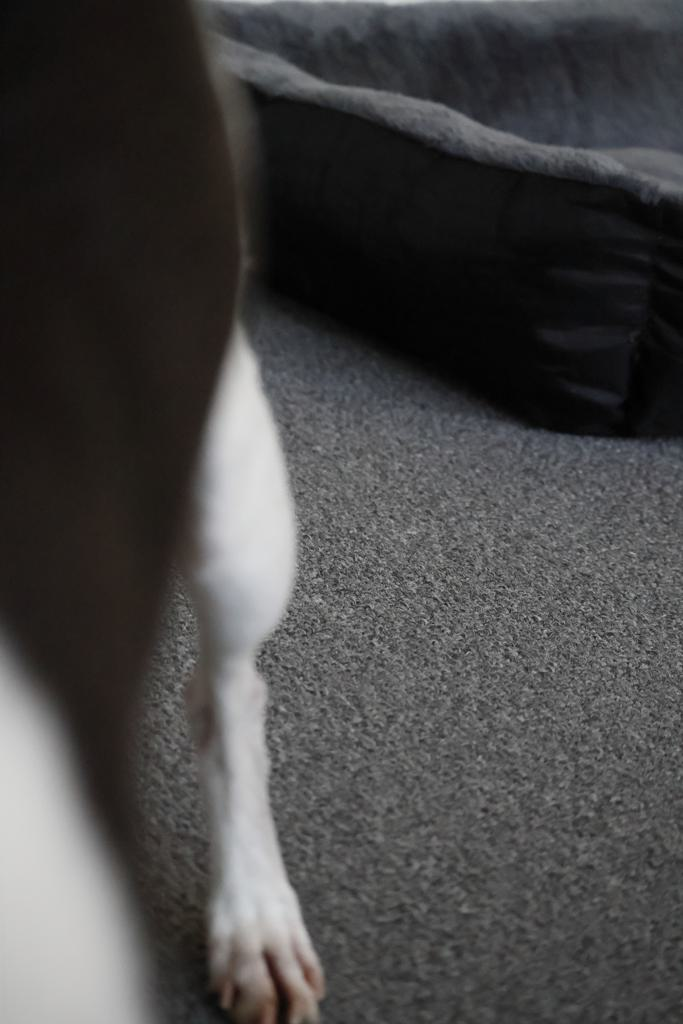Dog: (0, 0, 343, 1024)
